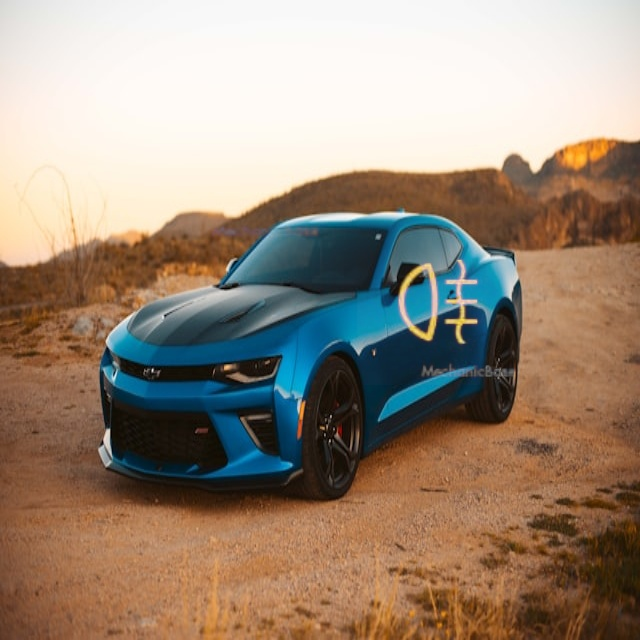symbol: (138, 58, 326, 246), (357, 220, 522, 385)
